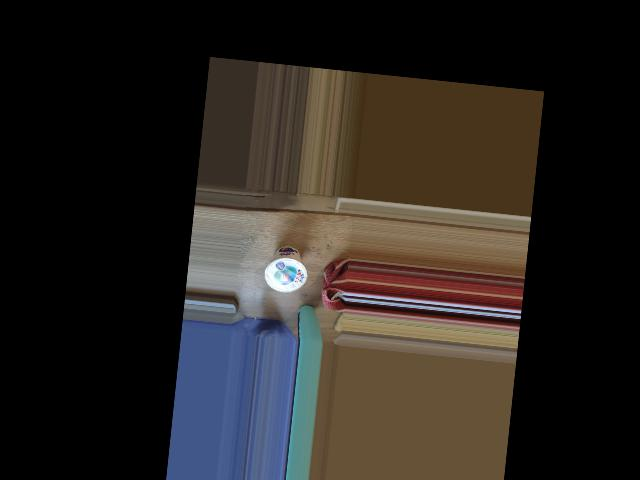cotage: (265, 242, 307, 296)
